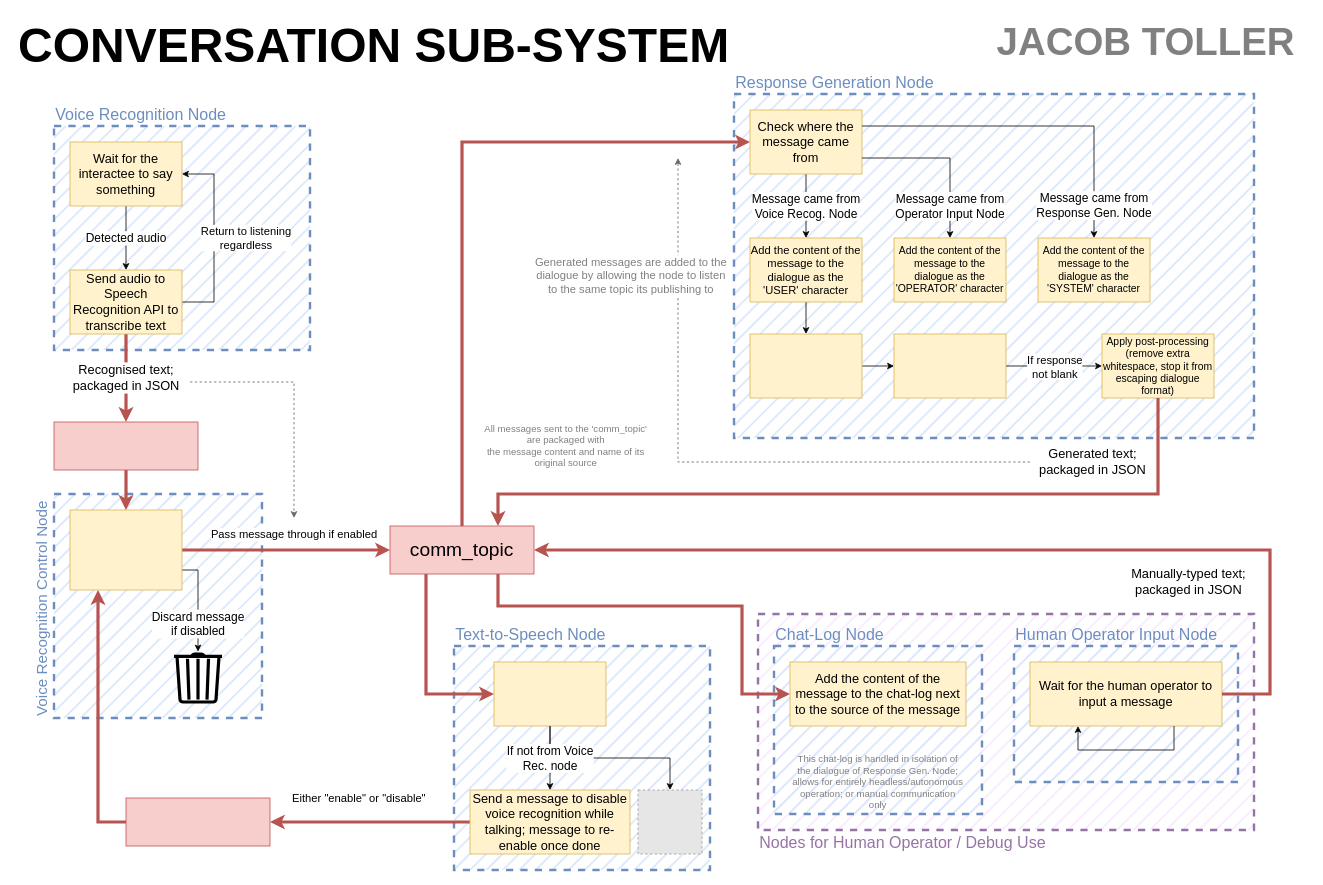
This 1323x885 diagram has some shape labels left out. Grey dashed boxes stand in for pictures. Each missing label, with the centre of its shape:
Add a 'SYSTEM: ' to the end of the dialogue: [805,365]
Did the message originally come from the Voice Recognition Node?: [549,693]
Pass the message onto 'comm_topic' if enabled: [125,549]
Send the dialogue to the OpenAI API as a prompt for Text Completion model: [949,365]
voice_recog_control topic: [197,821]
voice_recog_prefilter topic: [125,445]
